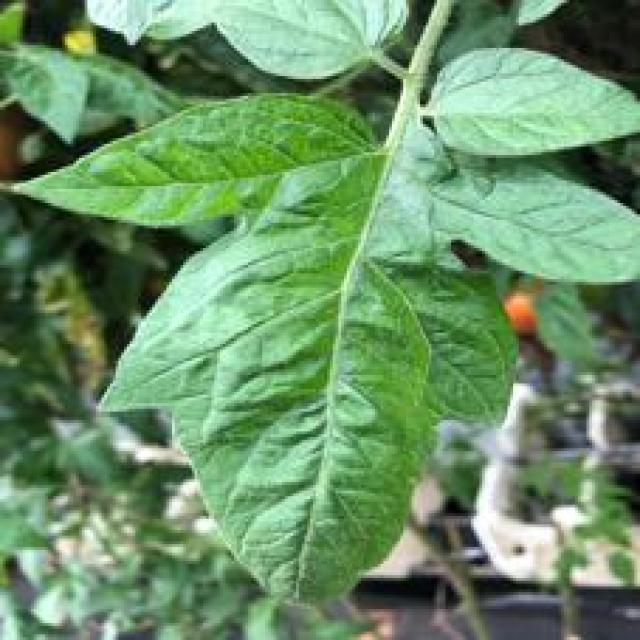Tomato healthy leaf: (1, 94, 638, 618), (433, 46, 640, 160)
